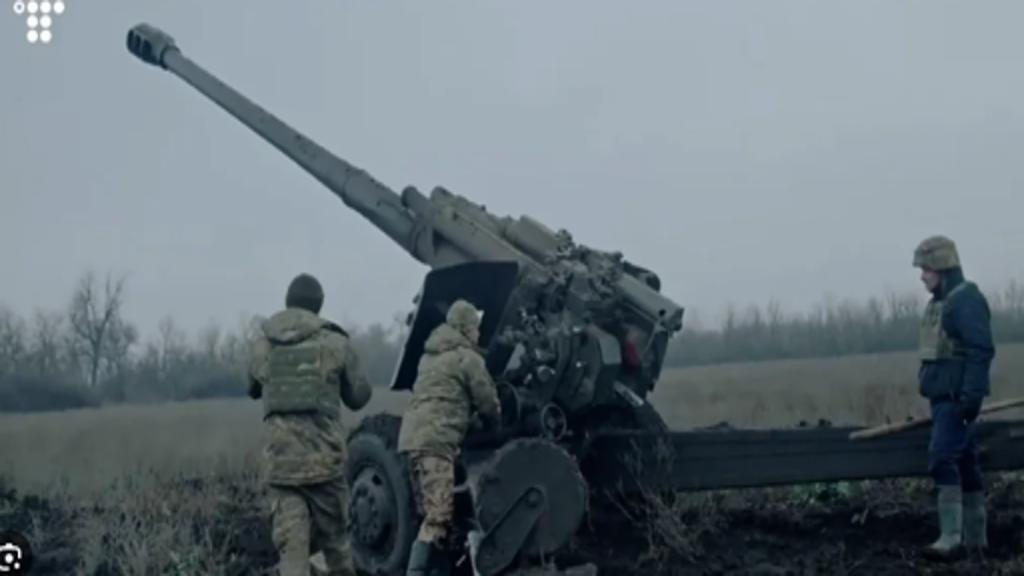ART: (124, 21, 1022, 574)
